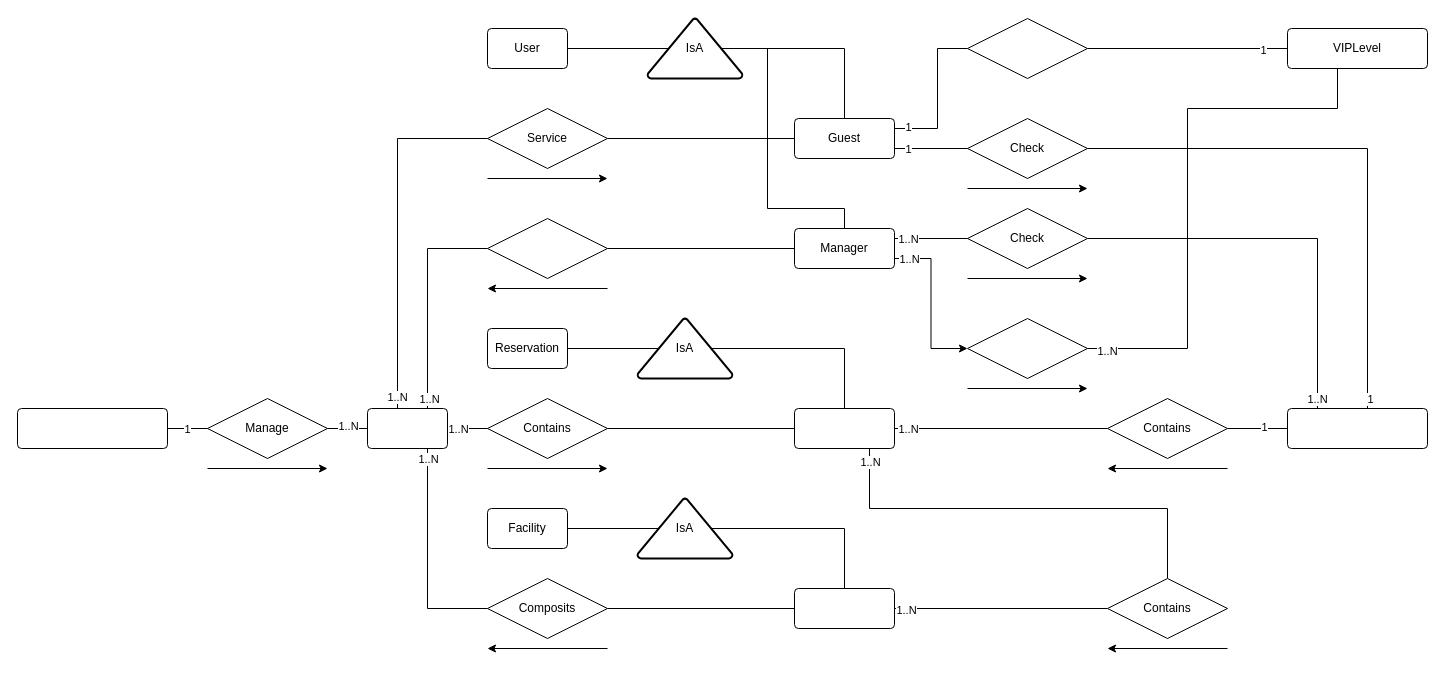
Image size: 1445x674. Some labels were removed from this diagram. The box of each missing label's shape, as (x1, y1, x2, y2) in pixels:
Has: (966, 18, 1088, 78)
Promote: (966, 318, 1088, 378)
Resort: (366, 408, 448, 448)
ResortManagementSystem: (16, 408, 168, 448)
Room: (794, 588, 894, 628)
RoomRersevation: (794, 408, 894, 448)
RoomRersevationHIstory: (1286, 408, 1428, 448)
WorkIn: (486, 218, 608, 278)
